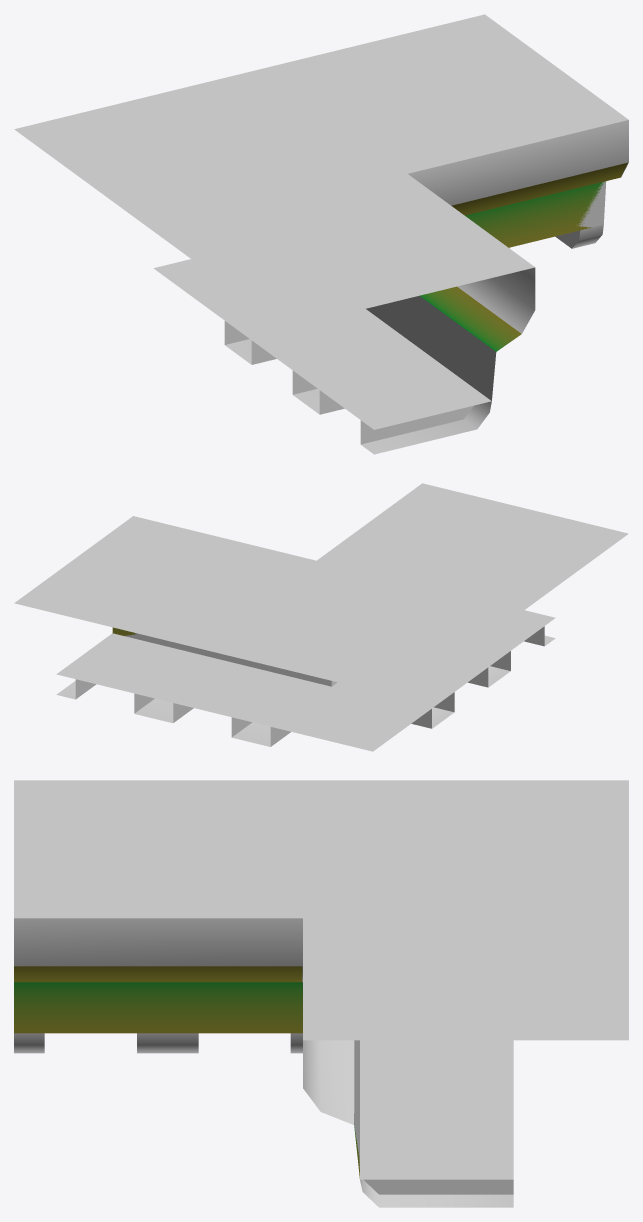
The model's file is SM_CorniceACornerInner2m.fbx.
3 renders of one model, top to bottom at view 1: azimuth 30°, elevation 25°; view 2: azimuth 150°, elevation 25°; view 3: azimuth 270°, elevation 25°, orthographic. The views are drawn at different scales.
Parts seen in each view (by area): view 1: SM_CorniceACornerInner2m; view 2: SM_CorniceACornerInner2m; view 3: SM_CorniceACornerInner2m.
Boxes of the visible parts, left/top/right/bottom form: SM_CorniceACornerInner2m: left=14, top=14, right=628, bottom=454; SM_CorniceACornerInner2m: left=14, top=483, right=628, bottom=751; SM_CorniceACornerInner2m: left=14, top=780, right=628, bottom=1207.
Size of the model in its own units: 200 by 60 by 200.
